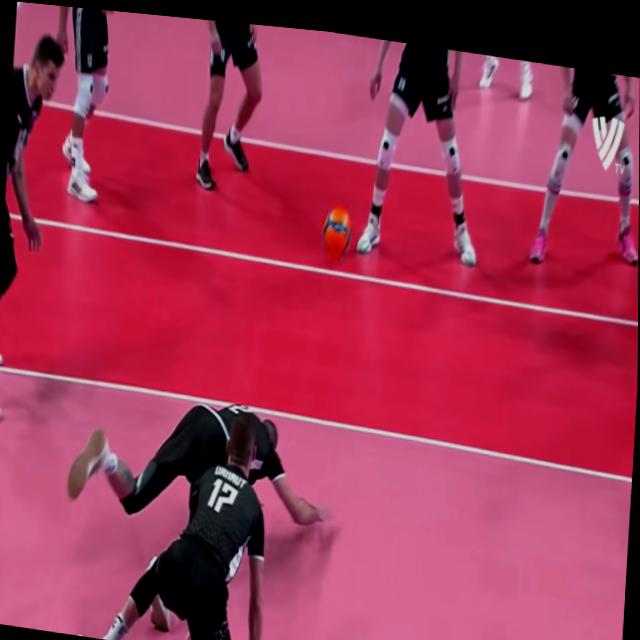player: (61, 369, 347, 565), (97, 385, 276, 640)
